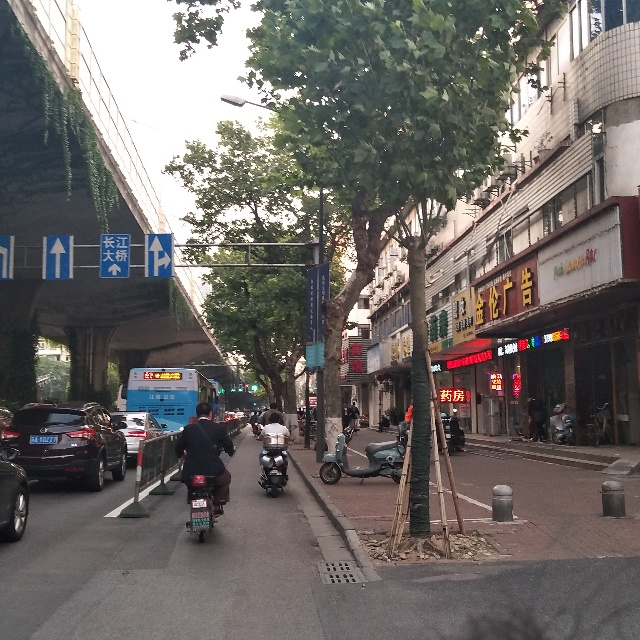straight: (47, 234, 71, 282)
